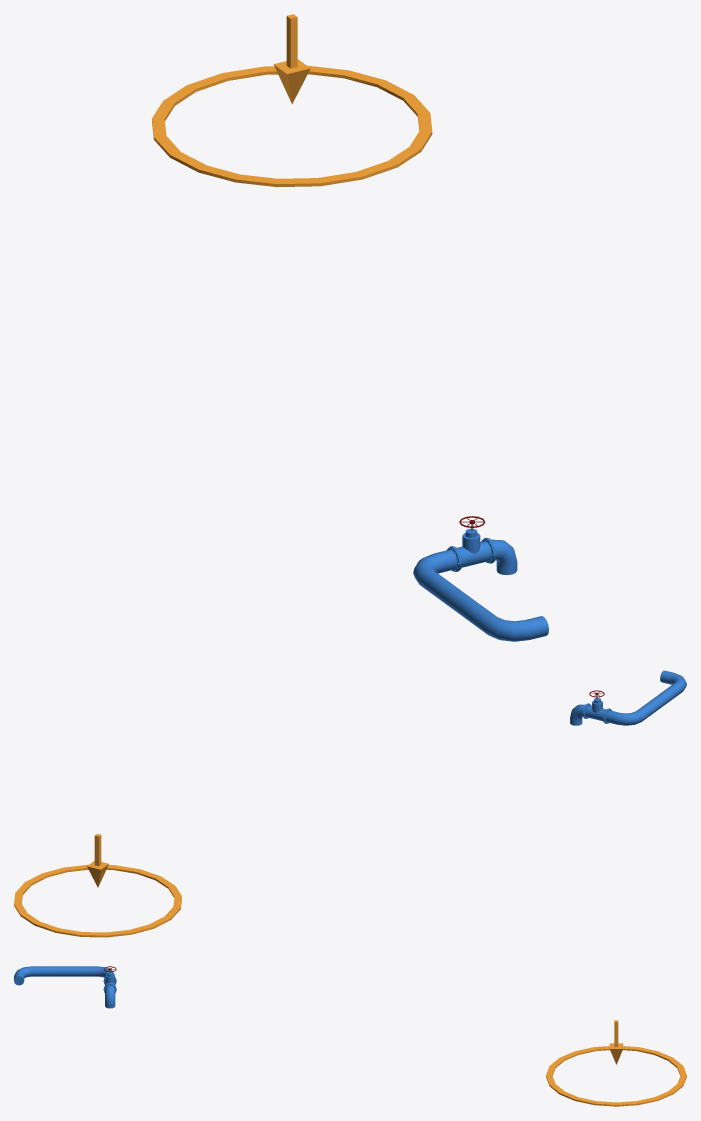
The model's file is 水阀终点.FBX.
3 views of the same model, one above another, from view 1: azimuth 30°, elevation 25°; view 2: azimuth 150°, elevation 25°; view 3: azimuth 270°, elevation 25° (orthographic). The views are drawn at different scales.
Parts seen in each view (by area): view 1: 胜利圈, 水阀管, 胜利箭头; view 2: 胜利圈, 水阀管, 胜利箭头; view 3: 胜利圈, 水阀管, 胜利箭头.
Boxes of the visible parts, x1,y1,x2,y2 form: 胜利圈: (152, 65, 432, 187); 水阀管: (413, 528, 548, 641); 胜利箭头: (273, 14, 310, 104); 胜利圈: (14, 864, 181, 937); 水阀管: (570, 670, 686, 725); 胜利箭头: (87, 834, 108, 887); 胜利圈: (546, 1046, 686, 1106); 水阀管: (14, 966, 116, 1008); 胜利箭头: (609, 1020, 623, 1064).
Size of the model in its own units: 4637 by 969 by 10495.
